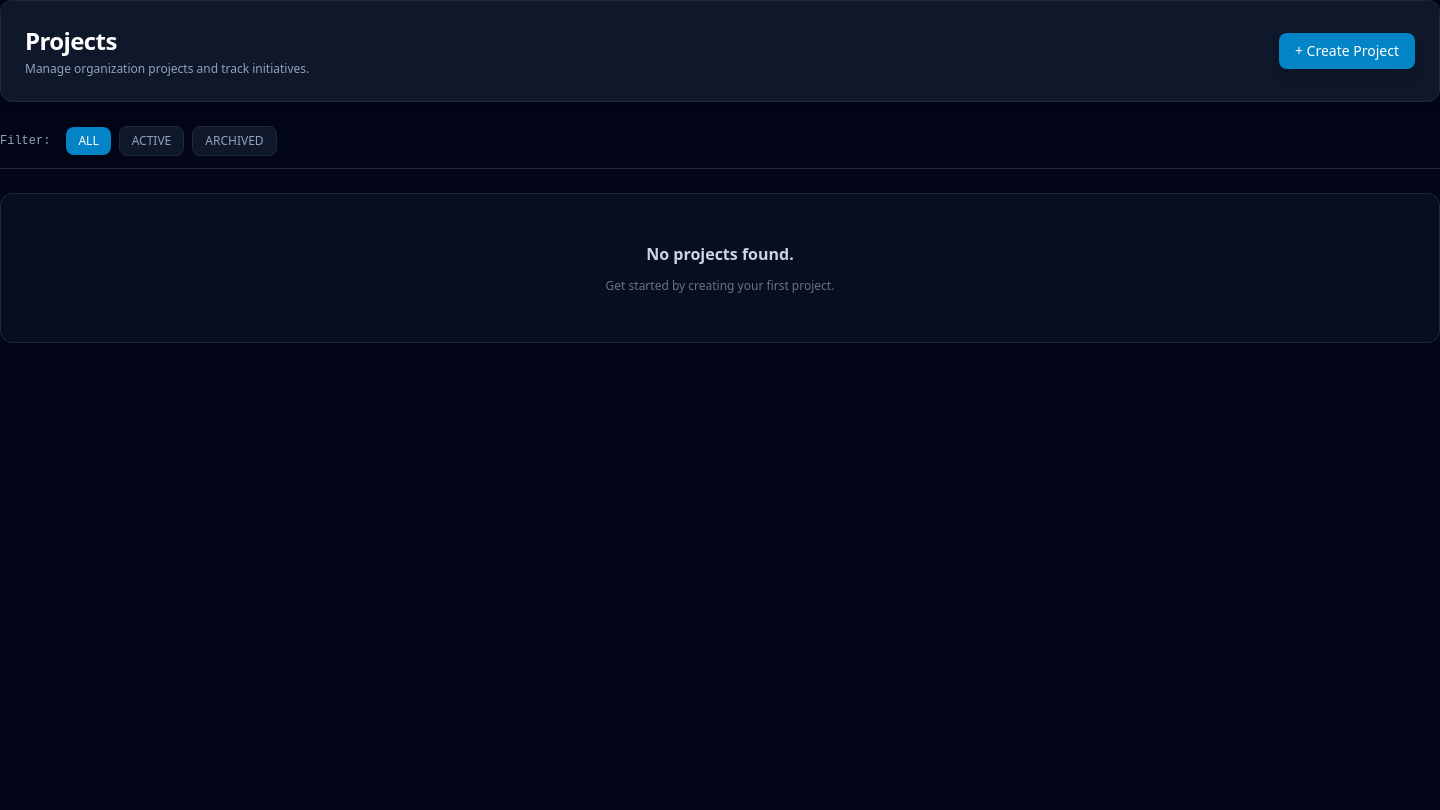
Test case: Projects Component › validates required fields during project creation
Click the button "+ Create Project".
click(1347, 51)  # box [1279, 33, 1415, 69]
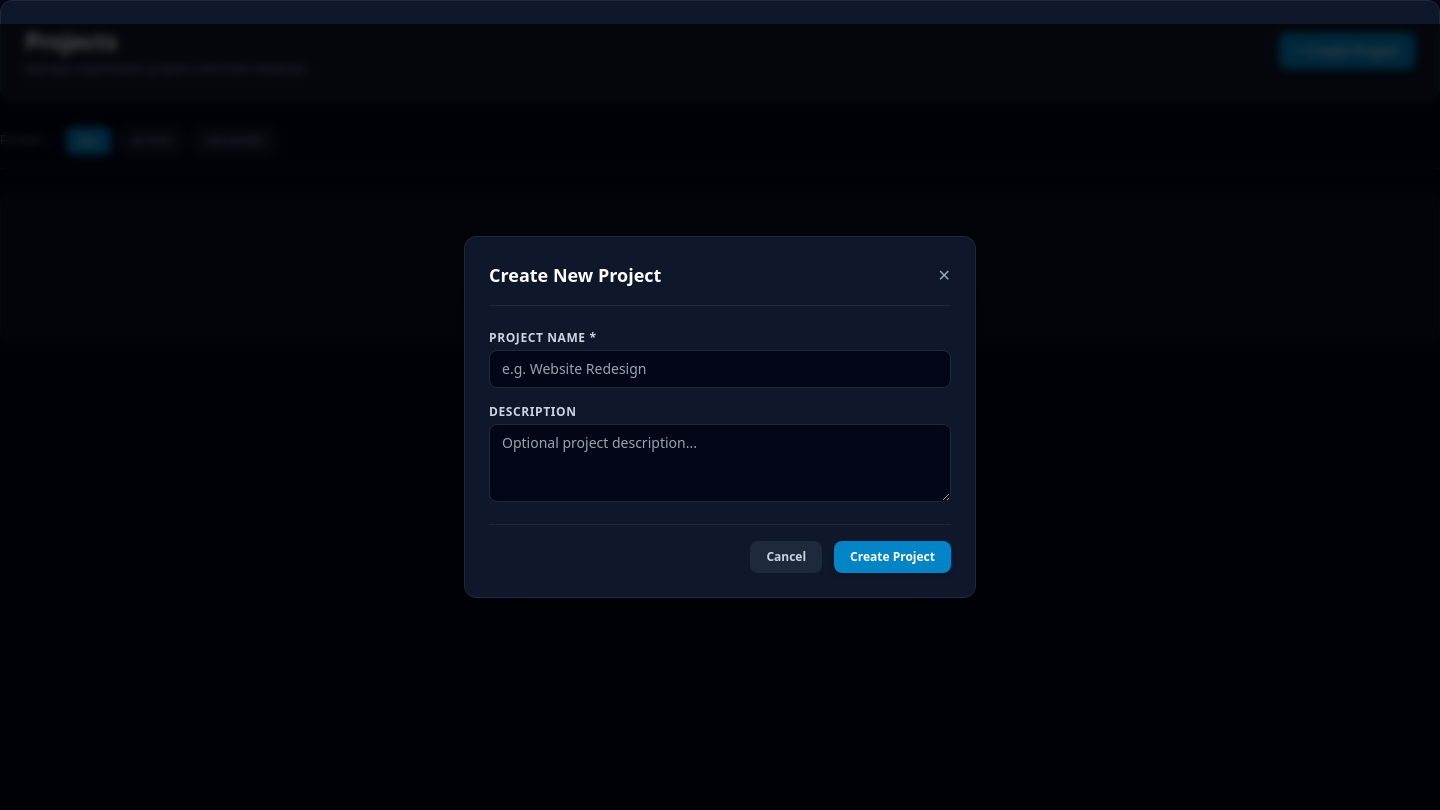
Click the button "Create Project".
click(893, 557)  # box [834, 541, 951, 573]
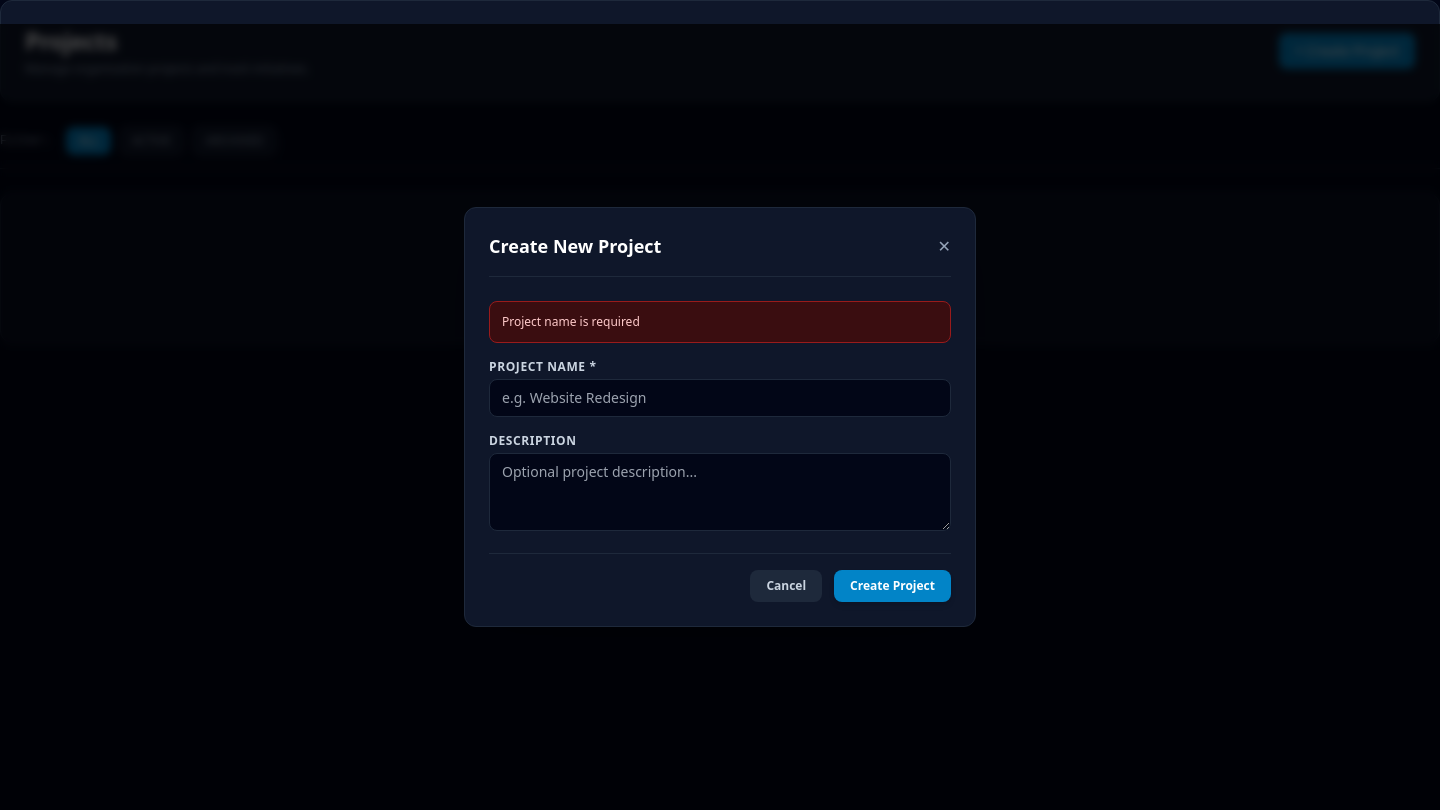
Check: the text "Project name is required" is shown, box [489, 301, 951, 343]
